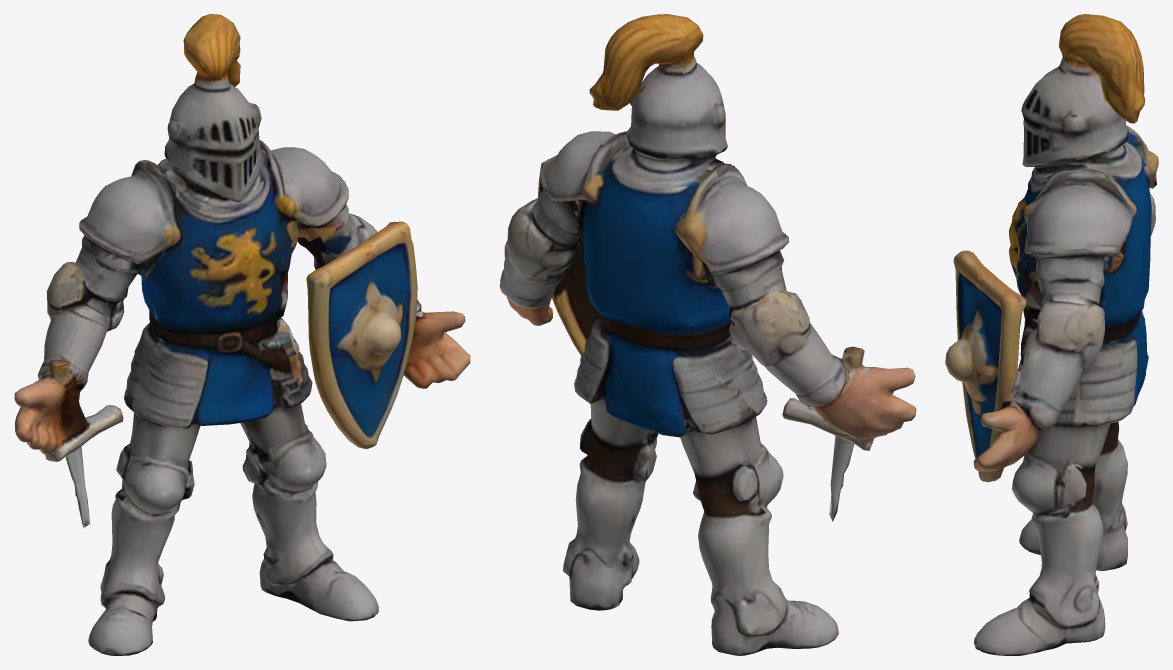
The model's file is char_armored_knight.glb.
3 renders of one model, left to right at view 1: azimuth 30°, elevation 25°; view 2: azimuth 150°, elevation 25°; view 3: azimuth 270°, elevation 25°, orthographic. The views are drawn at different scales.
Parts seen in each view (by area): view 1: geometry_0; view 2: geometry_0; view 3: geometry_0.
Part boxes in pixels (x1,y1,x2,y2): geometry_0: (14, 14, 470, 655); geometry_0: (499, 14, 916, 655); geometry_0: (945, 14, 1158, 655).
Size of the model in its own units: 1.51 by 1.97 by 0.6544.
1 material, 1 textured.
